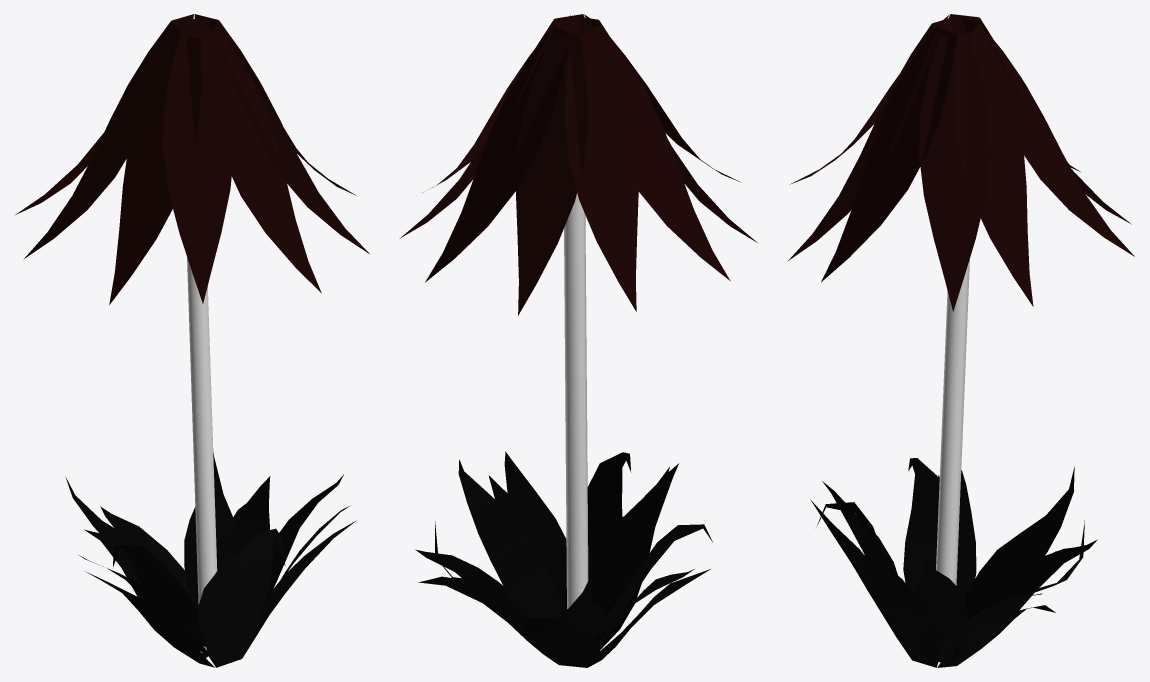
3 renders of one model, left to right at view 1: azimuth 30°, elevation 25°; view 2: azimuth 150°, elevation 25°; view 3: azimuth 270°, elevation 25°, orthographic. The views are drawn at different scales.
Parts seen in each view (by area): view 1: brush_Petal_g1_b0, brush_Icing_g1_b0; view 2: brush_Petal_g1_b0, brush_Icing_g1_b0; view 3: brush_Petal_g1_b0, brush_Icing_g1_b0.
Boxes of the visible parts, x1,y1,x2,y2 form: brush_Petal_g1_b0: (15, 14, 369, 667); brush_Icing_g1_b0: (187, 257, 217, 656); brush_Petal_g1_b0: (399, 14, 758, 667); brush_Icing_g1_b0: (564, 193, 588, 608); brush_Petal_g1_b0: (787, 14, 1134, 667); brush_Icing_g1_b0: (936, 259, 969, 585).
Size of the model in its own units: 4.87 by 9.18 by 4.56.
